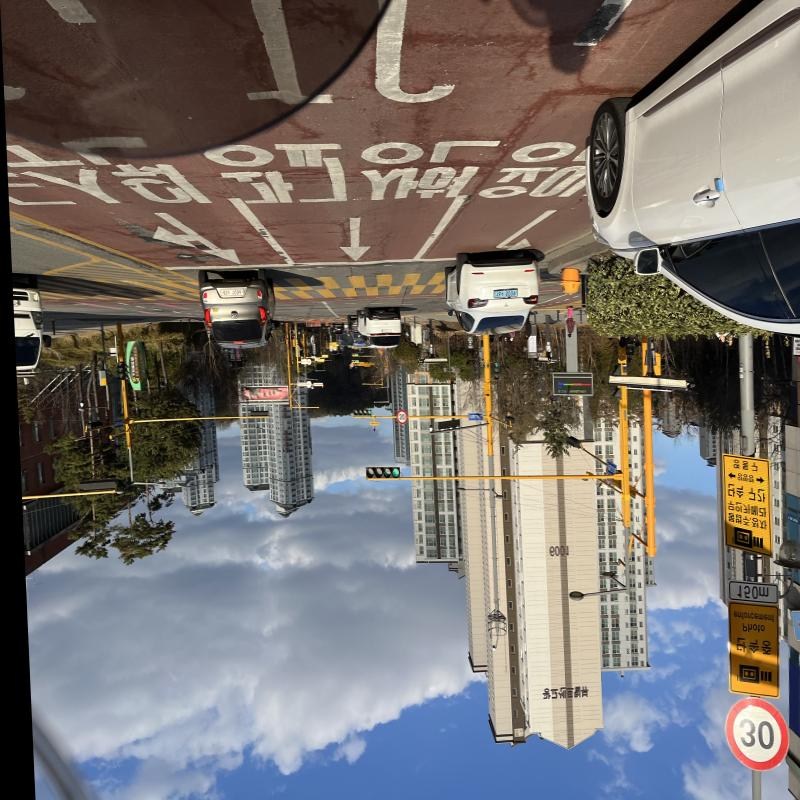green: (387, 468, 396, 477)
left: (379, 468, 387, 478)
